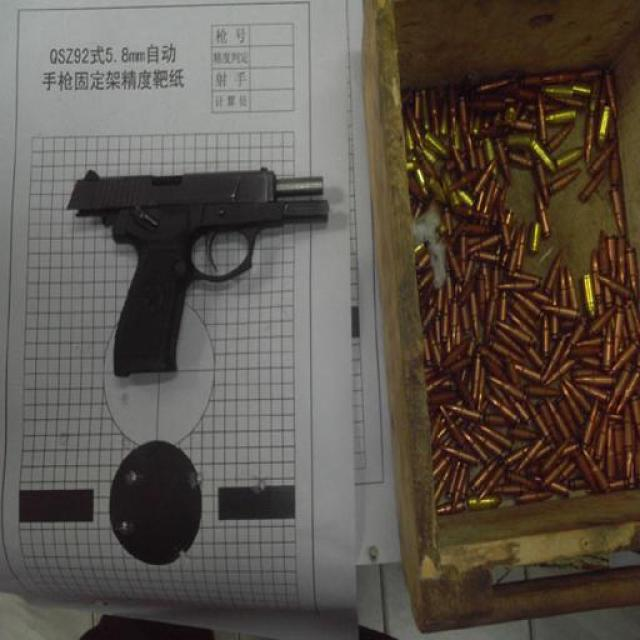pistol: (65, 164, 329, 378)
